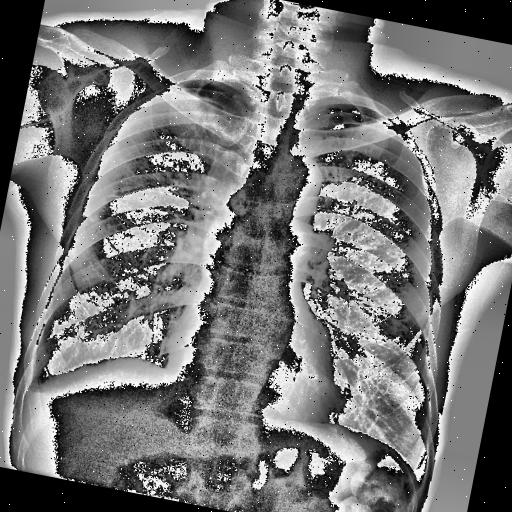0- Aortic enlargement: (267, 150, 327, 212)
10- Pleural effusion: (20, 362, 63, 404), (18, 368, 52, 414), (19, 371, 59, 409)
11- Pleural thickening: (20, 362, 63, 404), (18, 368, 52, 414), (19, 371, 59, 409), (310, 95, 358, 125), (204, 78, 250, 103)
13- Pulmonary fibrosis: (176, 90, 228, 160), (76, 208, 105, 232)
7- Lung Opacity: (200, 148, 249, 216)
8- Nodule-Mass: (200, 148, 249, 216)
9- Other lesion: (200, 148, 249, 216)
